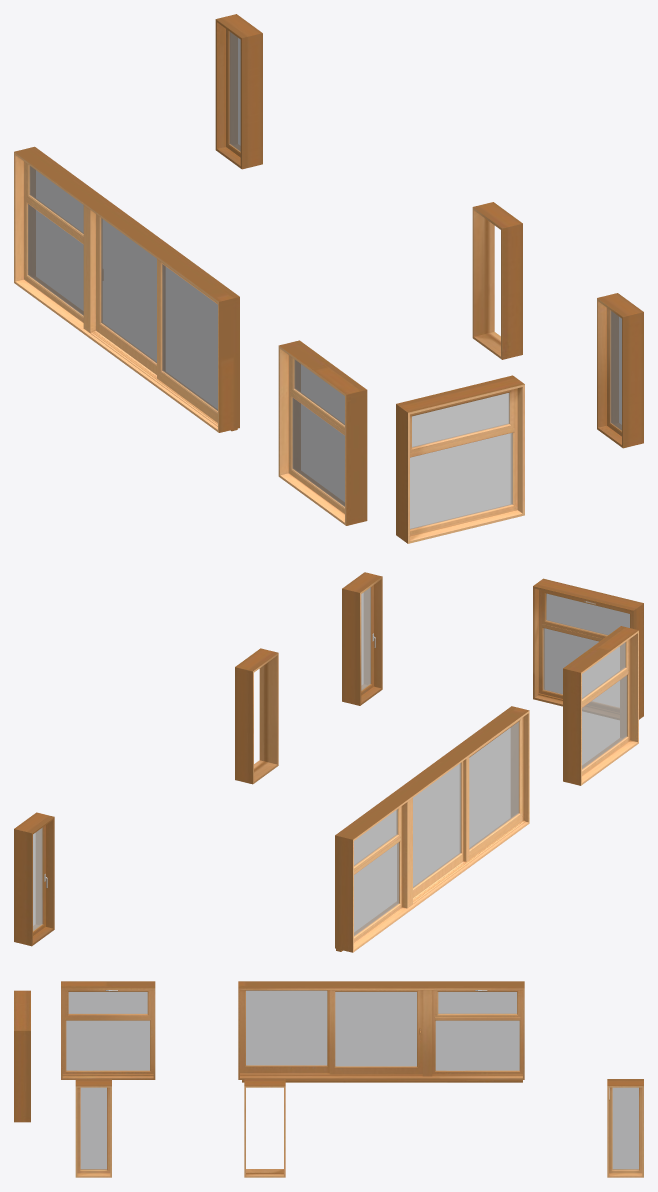
The model's file is Wood_Window.glb.
3 views of the same model, one above another, from view 1: azimuth 30°, elevation 25°; view 2: azimuth 150°, elevation 25°; view 3: azimuth 270°, elevation 25° (orthographic). The views are drawn at different scales.
Parts seen in each view (by area): view 1: Wood_Window; view 2: Wood_Window; view 3: Wood_Window.
Boxes of the visible parts, <box> form: Wood_Window: <box>14,14,643,543</box>; Wood_Window: <box>14,572,643,952</box>; Wood_Window: <box>14,981,643,1177</box>.
Size of the model in its own units: 2.18 by 0.91 by 5.52.
3 materials, 1 textured.
